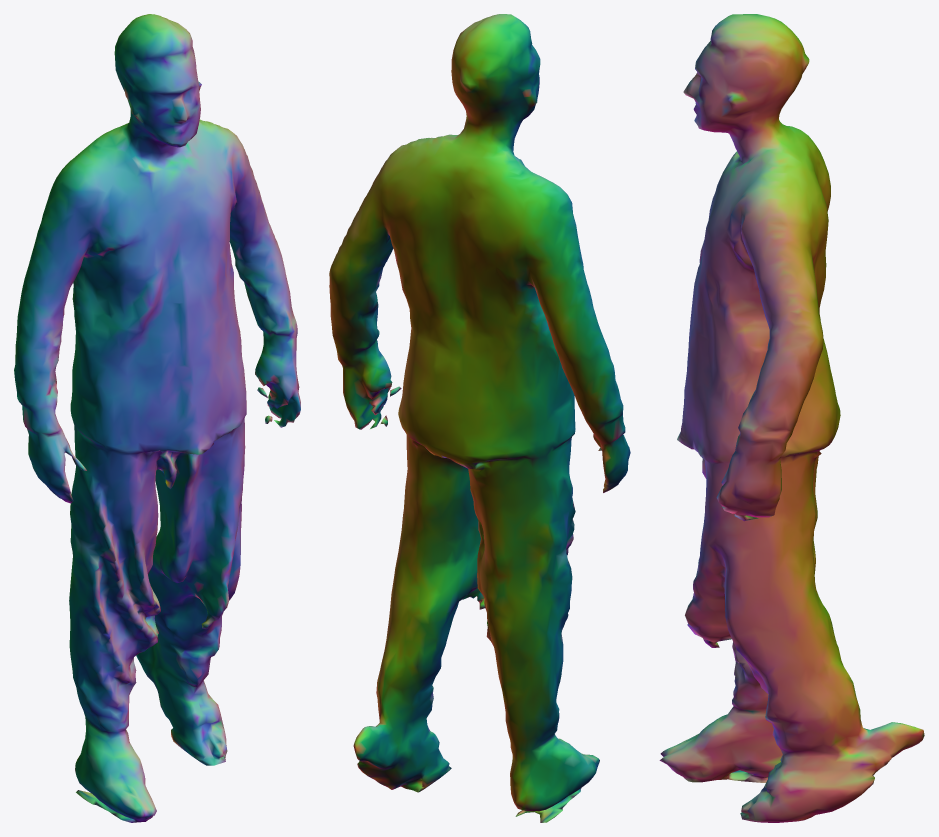
File: suriya_remesh.obj
3 renders of one model, left to right at view 1: azimuth 30°, elevation 25°; view 2: azimuth 150°, elevation 25°; view 3: azimuth 270°, elevation 25°, orthographic. The views are drawn at different scales.
Size of the model in its own units: 0.6859 by 1.84 by 0.5654.
